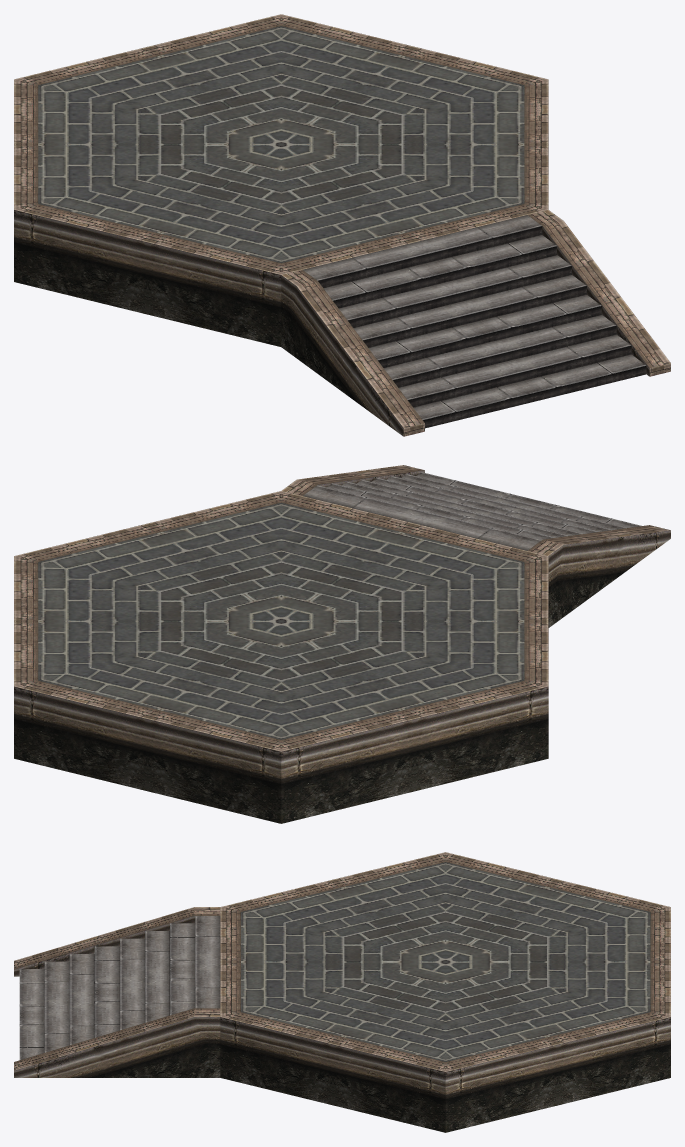
The model's file is SwordSpirit_Square_house03_base.FBX.
The picture shows the model from 3 angles, top to bottom: view 1: azimuth 30°, elevation 25°; view 2: azimuth 150°, elevation 25°; view 3: azimuth 270°, elevation 25°; orthographic projection. The views are drawn at different scales.
Visible parts, largest first — view 1: Object446; view 2: Object446; view 3: Object446.
Part boxes in pixels (x1=…): Object446: x1=14, y1=14, x2=670, y2=436; Object446: x1=14, y1=465, x2=670, y2=823; Object446: x1=14, y1=852, x2=670, y2=1132.
Bounding box in the file's own units: 1547 × 200 × 1954.
Materials: 4 (4 with a texture image).
